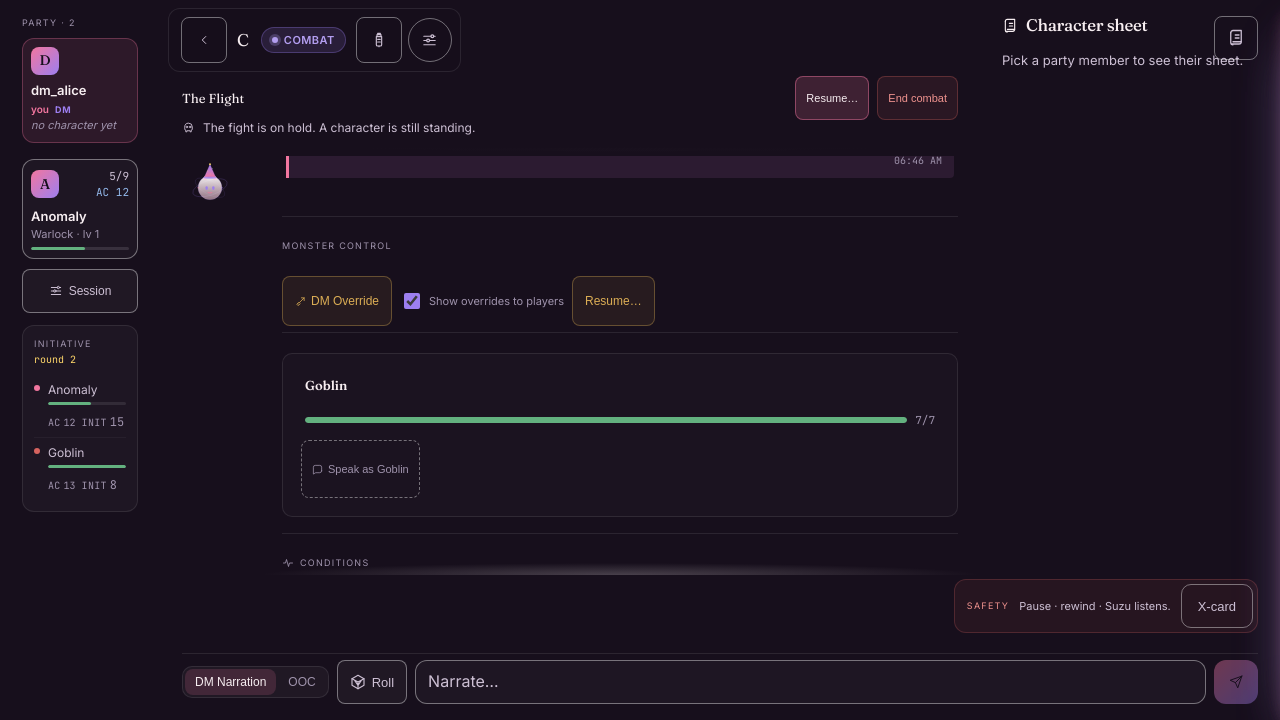
it: R4-3 (Kage N-2): the confirm and the End-session warning do not say everyone has fallen when a character is standing › the human DM: the standing words, with the pointer to Keep waiting then Resume
(page scrolled)
Expected: the text "The fight is on hold. A character is still standing." is shown, left=182, top=120, right=475, bottom=135
Click the button "End combat": click(918, 98) left=877, top=76, right=958, bottom=120
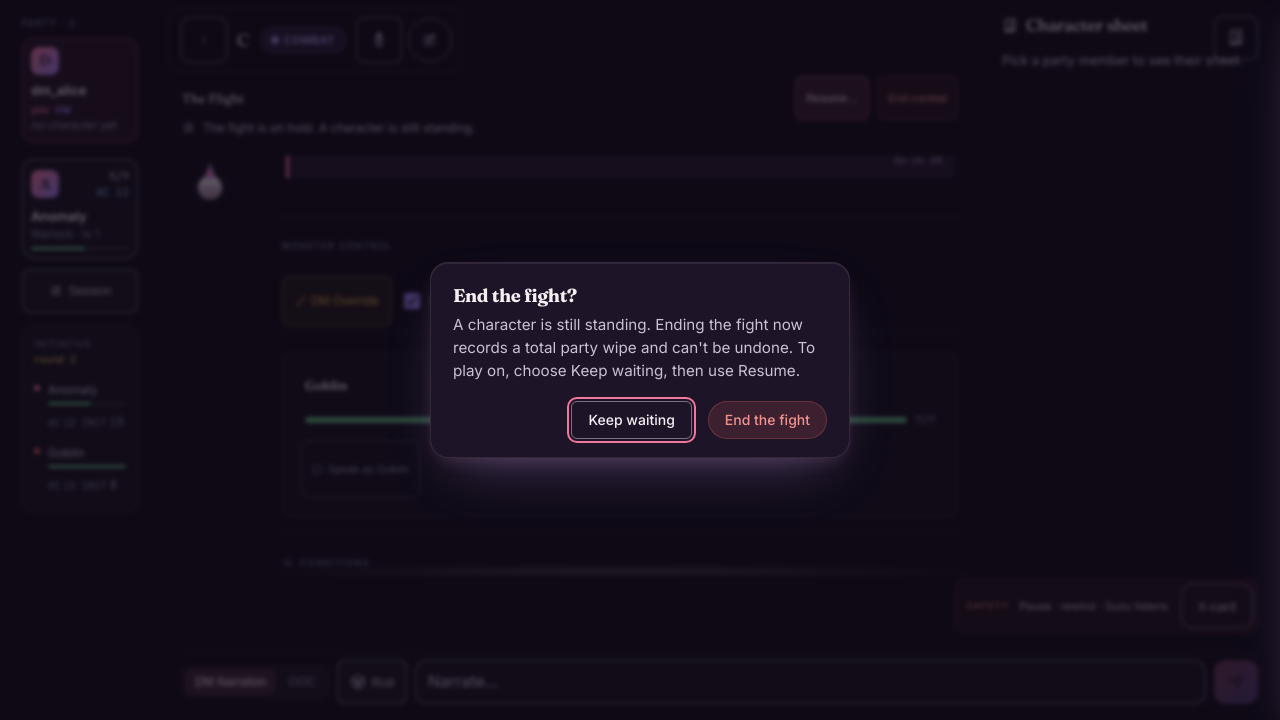
Result: the dialog "End the fight?" shows "A character is still standing. Ending the fight now records a total party wipe and can't be undone. To play on, choose Keep waiting, then use Resume." at left=453, top=315, right=815, bottom=380
